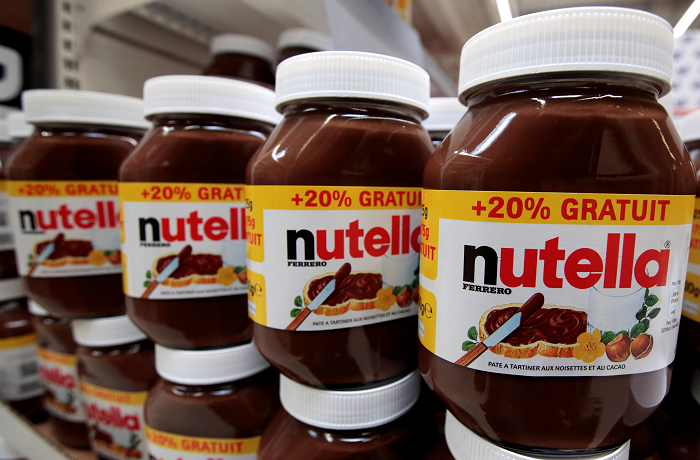nutella: (418, 5, 698, 457), (246, 48, 436, 396), (120, 74, 275, 350), (6, 89, 142, 320)
